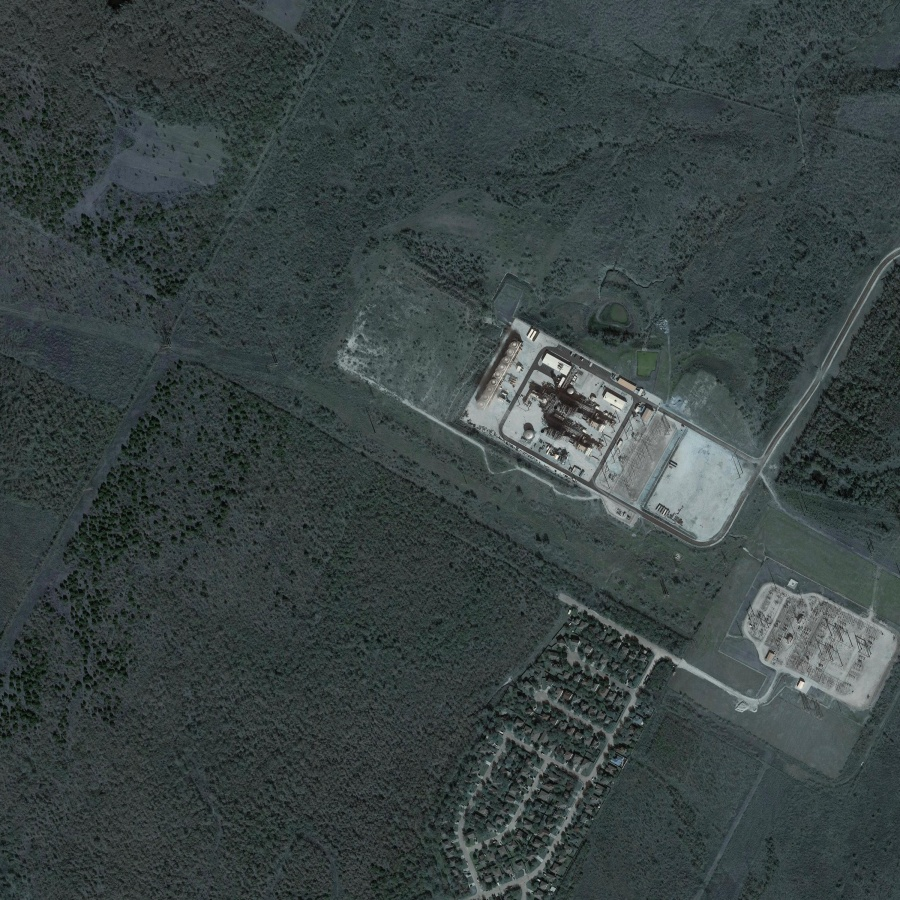PowerPlant: (466, 321, 676, 511), (740, 567, 886, 704)
